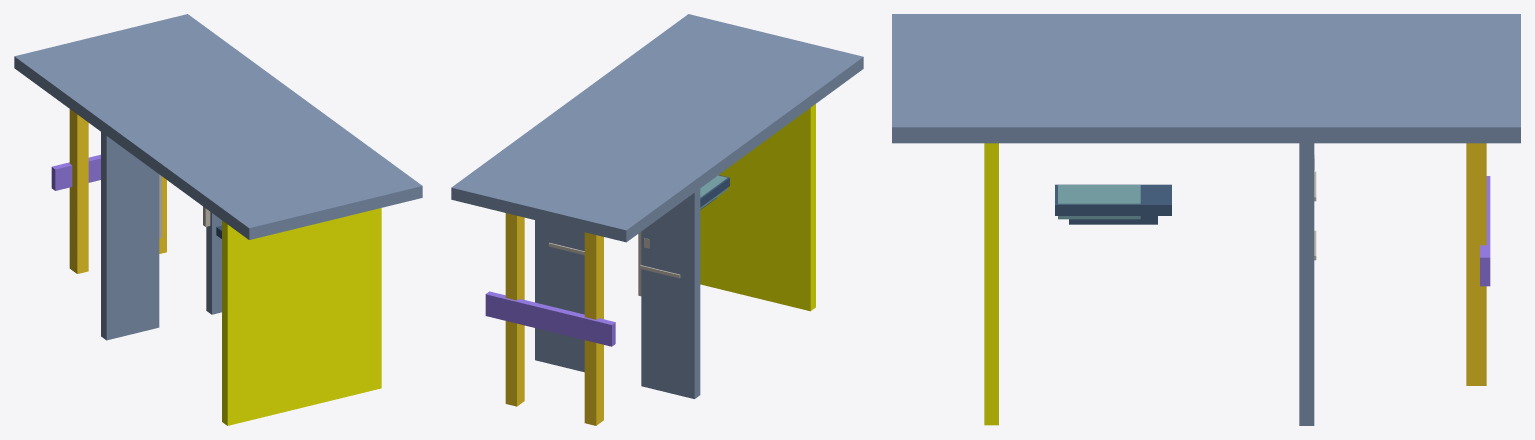
The model's file is FINISH.fbx.
The picture shows the model from 3 angles, left to right: view 1: azimuth 30°, elevation 25°; view 2: azimuth 150°, elevation 25°; view 3: azimuth 270°, elevation 25°; orthographic projection. The views are drawn at different scales.
Visible parts, largest first — view 1: plane_2__28_, plane_2__26_, plane_2__19_, plane_2__30_, plane_2__4_, plane_1__4_, plane_2__29_; view 2: plane_2__28_, plane_2__26_, plane_2__19_, plane_2__4_, plane_1__4_, plane_2__30_, plane_2__29_; view 3: plane_2__28_, plane_2__29_, plane_2__4_, plane_2__26_, plane_2__25_, plane_1__3_, plane_1__4_, plane_2__27_.
Boxes of the visible parts, box(x1,y1,x2,y2) form: plane_2__28_: box(14, 14, 422, 239); plane_2__26_: box(222, 208, 381, 425); plane_2__19_: box(101, 132, 159, 340); plane_2__30_: box(69, 109, 88, 273); plane_2__4_: box(206, 212, 221, 314); plane_1__4_: box(51, 154, 100, 190); plane_2__29_: box(159, 176, 166, 253); plane_2__28_: box(451, 14, 863, 242); plane_2__26_: box(700, 104, 815, 311); plane_2__19_: box(641, 189, 700, 398); plane_2__4_: box(535, 220, 584, 372); plane_1__4_: box(485, 291, 615, 346); plane_2__30_: box(584, 232, 603, 425); plane_2__29_: box(505, 213, 524, 406); plane_2__28_: box(892, 14, 1520, 143); plane_2__29_: box(1466, 143, 1486, 385); plane_2__4_: box(1299, 143, 1314, 425); plane_2__26_: box(984, 143, 998, 425); plane_2__25_: box(1055, 184, 1171, 215); plane_1__3_: box(1058, 185, 1140, 219); plane_1__4_: box(1480, 176, 1490, 286); plane_2__27_: box(1069, 216, 1157, 224).
Bounding box in the file's own units: 846 × 1053 × 1983.
